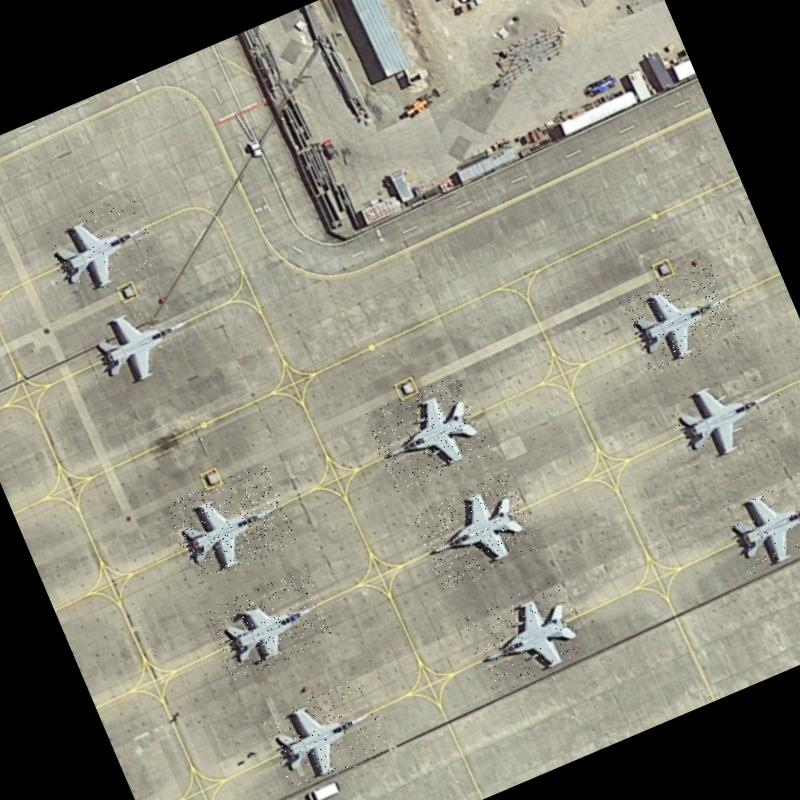A16: (163, 461, 300, 586), (78, 278, 212, 401), (362, 373, 494, 497), (409, 472, 541, 592), (664, 352, 796, 472), (461, 577, 592, 697), (260, 676, 392, 794), (203, 568, 336, 683), (618, 259, 746, 377), (39, 190, 167, 304), (718, 462, 800, 576)
